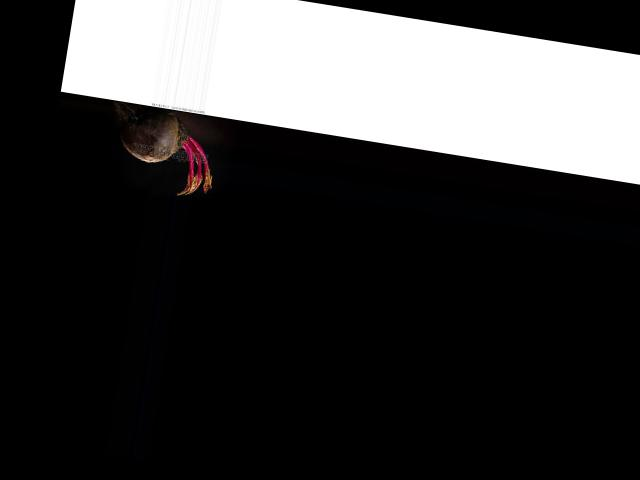beet: (98, 99, 222, 199)
